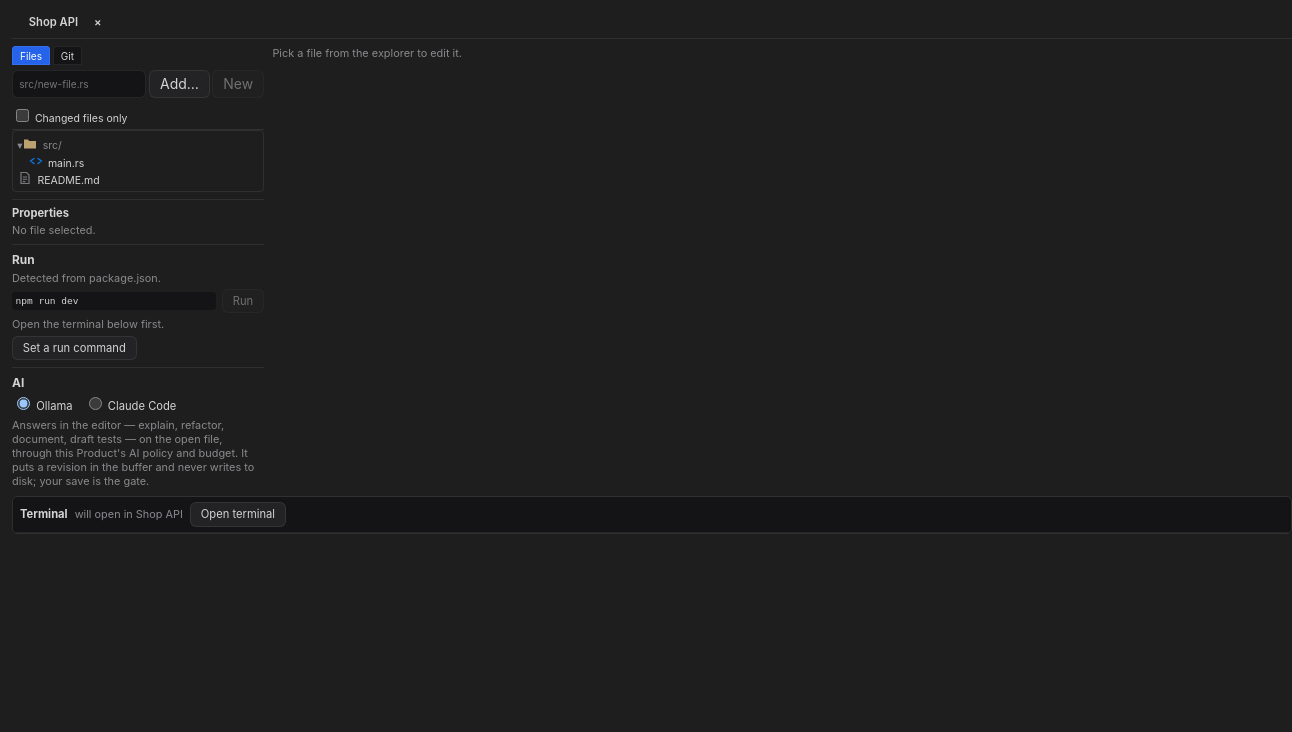
it: CodeEditor › collapses a folder and hides what is inside it
The width and height of the screenshot is (1292, 732).
Expected: the button with aria-label "Open src/main.rs" is shown, [28,152,84,170]
Click the button with aria-label "Collapse src": (40, 144) [17,135,62,152]
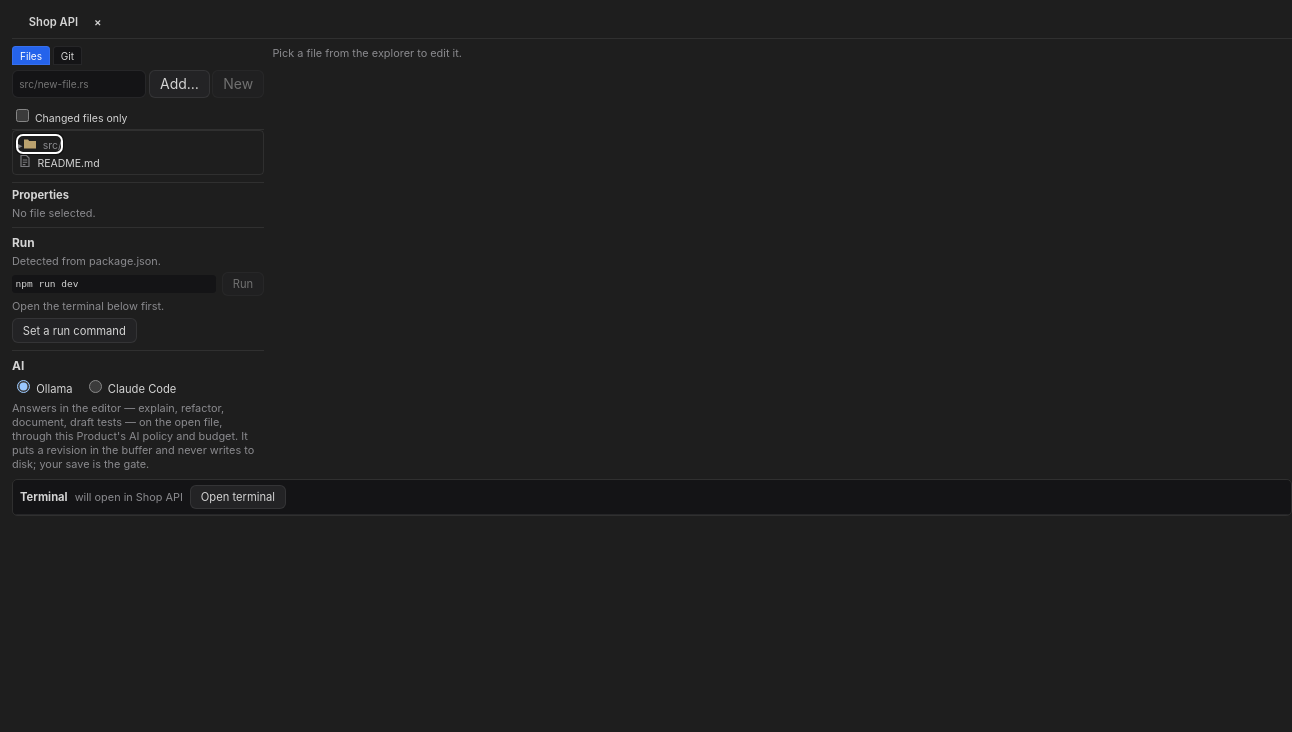
Expected: the button with aria-label "Open README.md" is shown, [17,152,100,170]
Now the button with aria-label "Expand src" is shown
Click the button with aria-label "Expand src": (40, 144) [17,135,62,152]
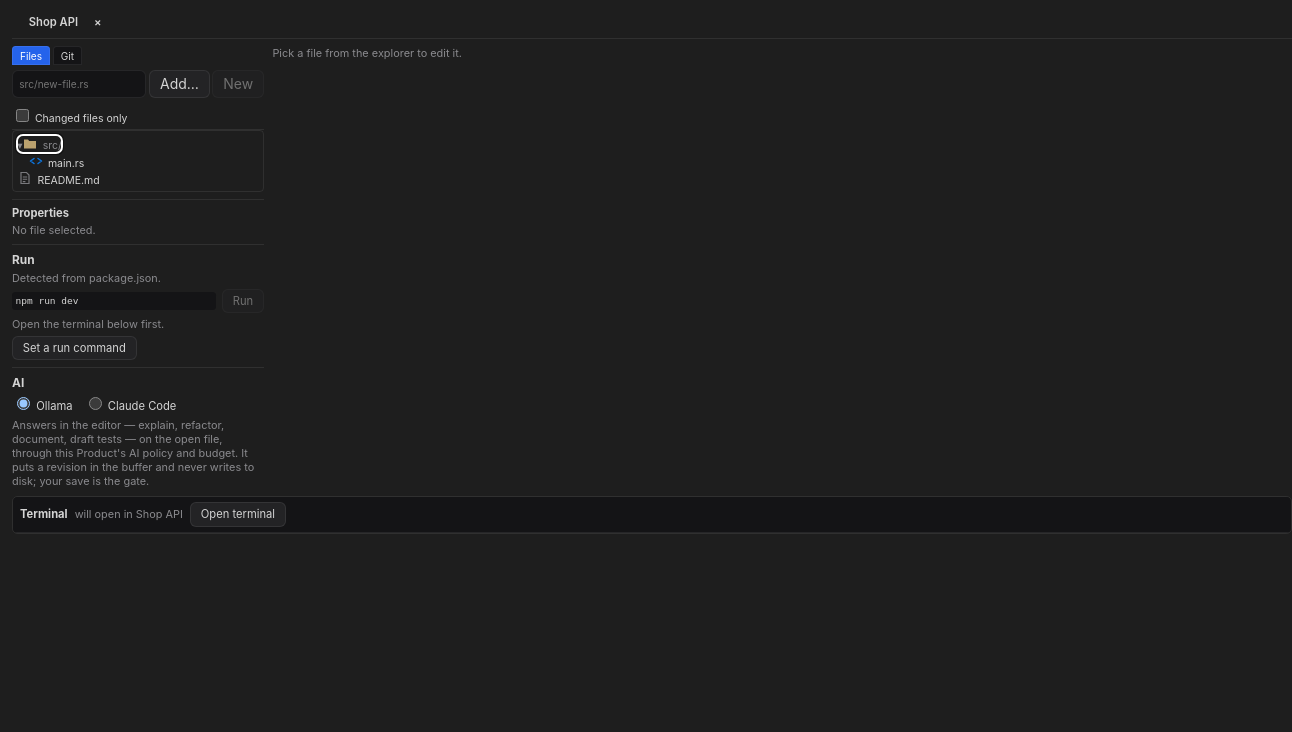
Now the button with aria-label "Open src/main.rs" is shown, box [28,152,84,170]
